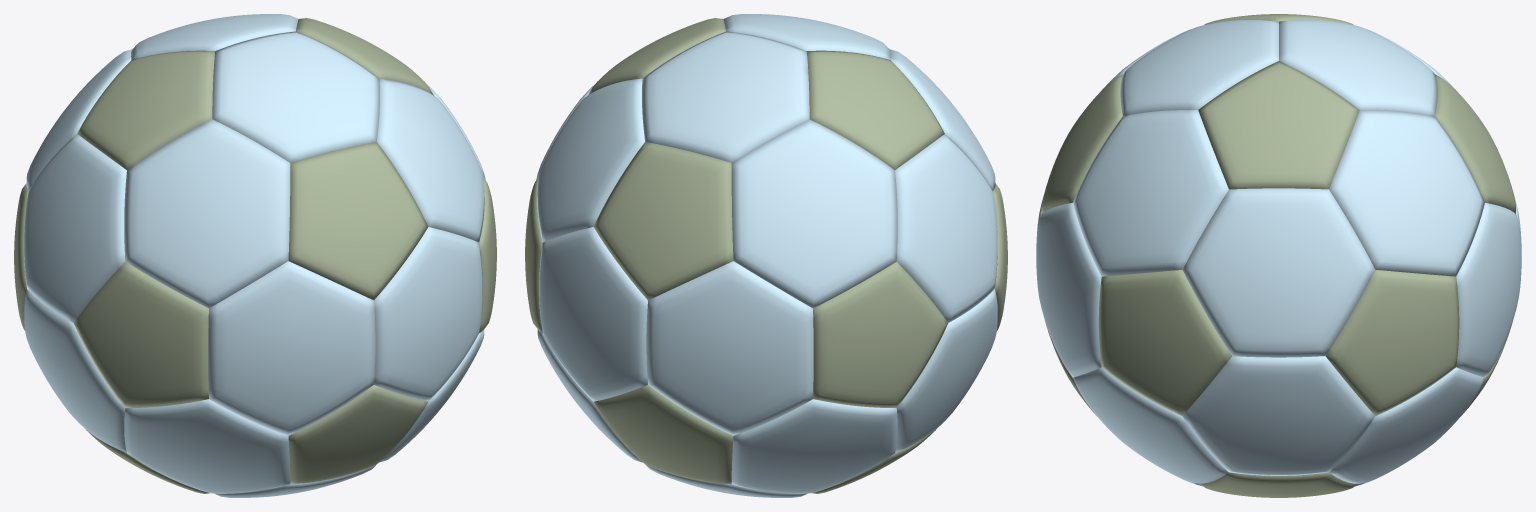
The model's file is soccer_ball_b45d9f43.glb.
3 views of the same model, side by side, from view 1: azimuth 30°, elevation 25°; view 2: azimuth 150°, elevation 25°; view 3: azimuth 270°, elevation 25° (orthographic).
Parts seen in each view (by area): view 1: Fussball; view 2: Fussball; view 3: Fussball.
Part boxes in pixels (<box>): Fussball: <box>14,14,496,497</box>; Fussball: <box>525,14,1007,497</box>; Fussball: <box>1036,14,1521,497</box>.
Size of the model in its own units: 1.76 by 1.76 by 1.76.
2 materials, 2 textured.
